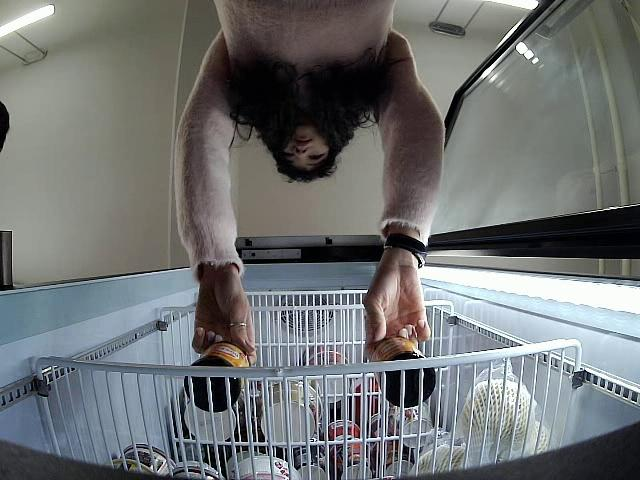00_hand: (360, 274, 433, 354), (191, 283, 255, 360)
17_vita500: (364, 335, 437, 409), (183, 339, 249, 413)
